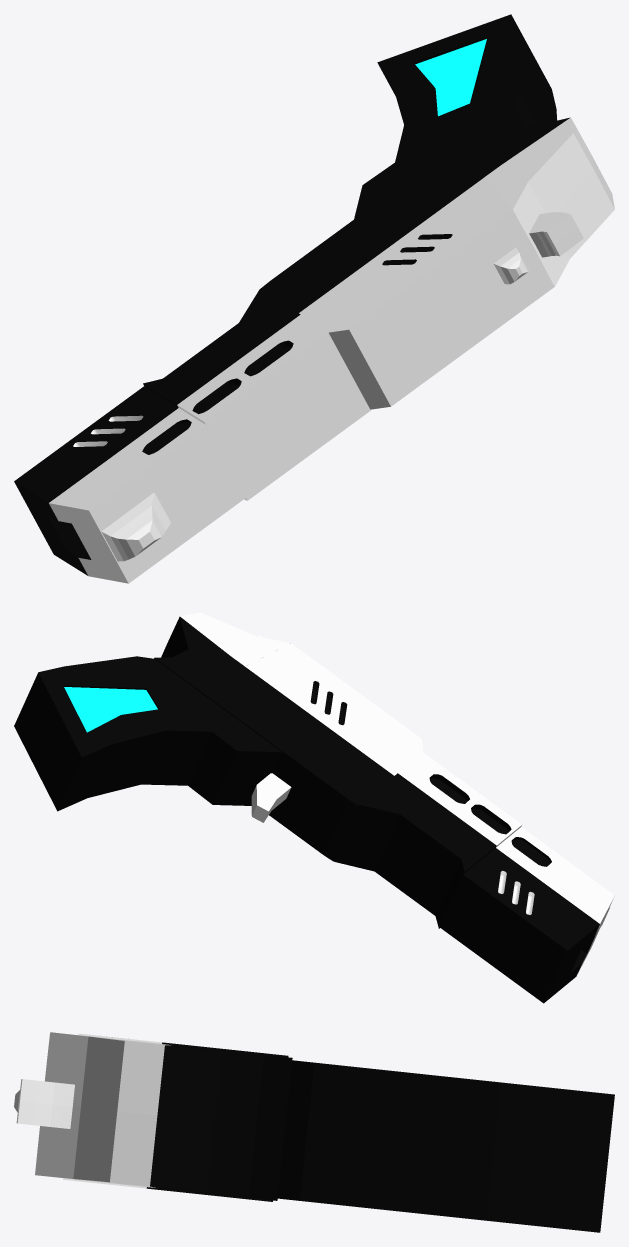
The model's file is Revolver.fbx.
3 views of the same model, one above another, from view 1: azimuth 30°, elevation 25°; view 2: azimuth 150°, elevation 25°; view 3: azimuth 270°, elevation 25° (orthographic). The views are drawn at different scales.
Parts seen in each view (by area): view 1: Revolver.001; view 2: Revolver.001; view 3: Revolver.001.
Part boxes in pixels (x1,y1,x2,y2): Revolver.001: (14, 14, 614, 583); Revolver.001: (14, 612, 614, 1003); Revolver.001: (14, 1032, 614, 1232).
Size of the model in its own units: 0.7008 by 0.3733 by 0.4148.
